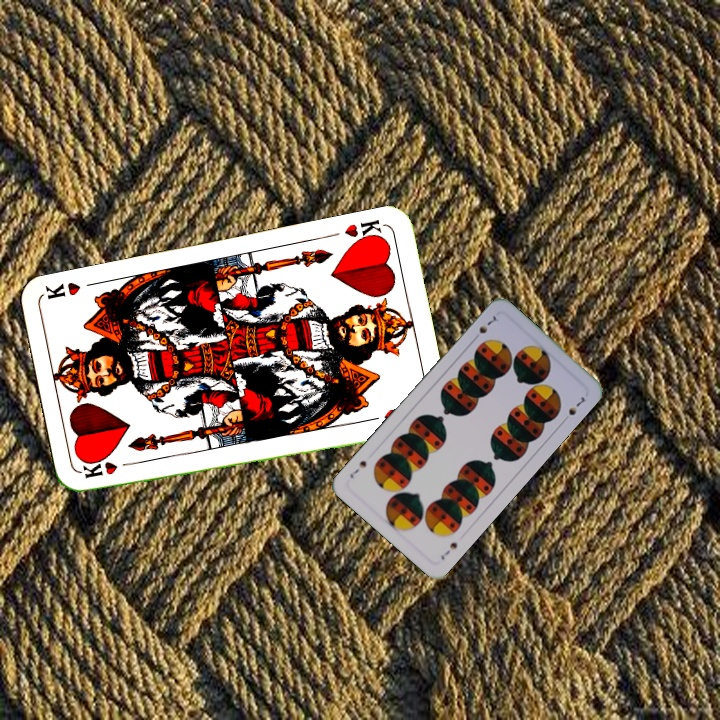HK: (340, 215, 387, 247), (79, 457, 139, 481)
S7: (469, 312, 499, 343), (437, 538, 460, 563)
